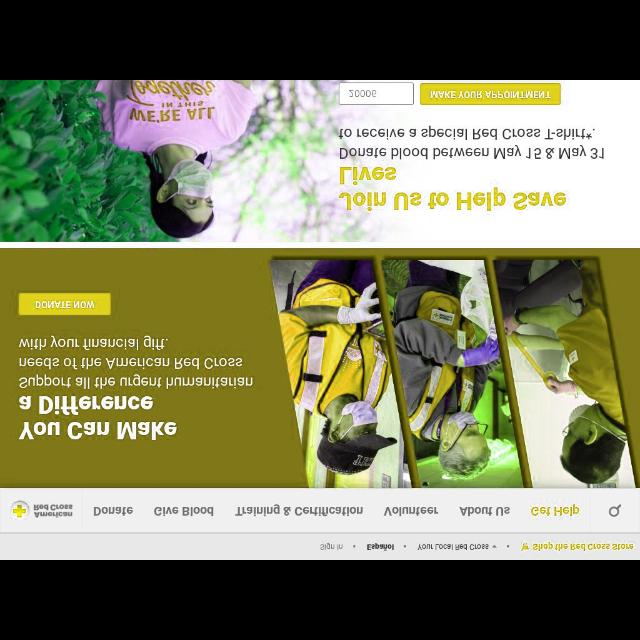icon: (608, 502, 624, 518), (520, 542, 530, 552), (489, 544, 497, 550), (505, 544, 511, 546)
image: (236, 249, 640, 487), (1, 82, 338, 240), (9, 501, 77, 523)
input: (338, 88, 409, 100)
multitab: (309, 534, 637, 556)
text: (21, 336, 252, 392), (337, 122, 608, 164), (335, 168, 567, 212), (23, 395, 177, 441), (235, 506, 362, 516), (92, 501, 134, 521), (535, 542, 633, 550), (383, 505, 437, 517), (155, 507, 213, 518), (458, 505, 509, 517), (530, 505, 580, 517), (414, 544, 490, 550), (364, 543, 394, 551), (317, 543, 343, 551)
textbutton: (421, 84, 561, 104), (19, 295, 110, 313)
toolbar: (4, 489, 638, 533)
